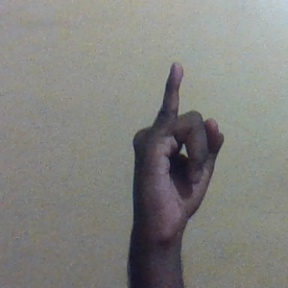I: (128, 59, 225, 242)
